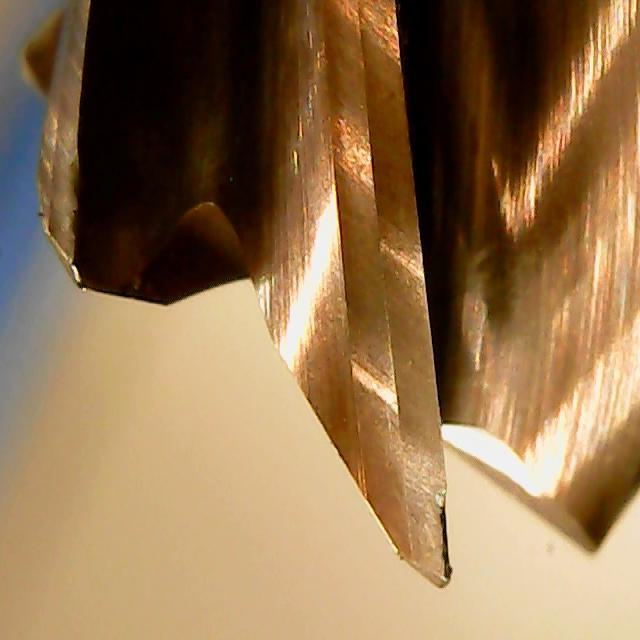Tool-wear-class-1: (333, 269, 466, 591)
